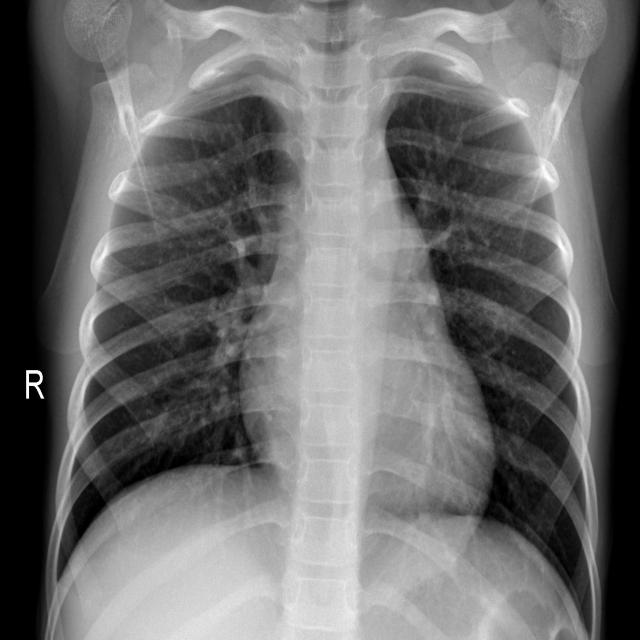no-pneumonia: (51, 96, 300, 581), (387, 80, 601, 636)
